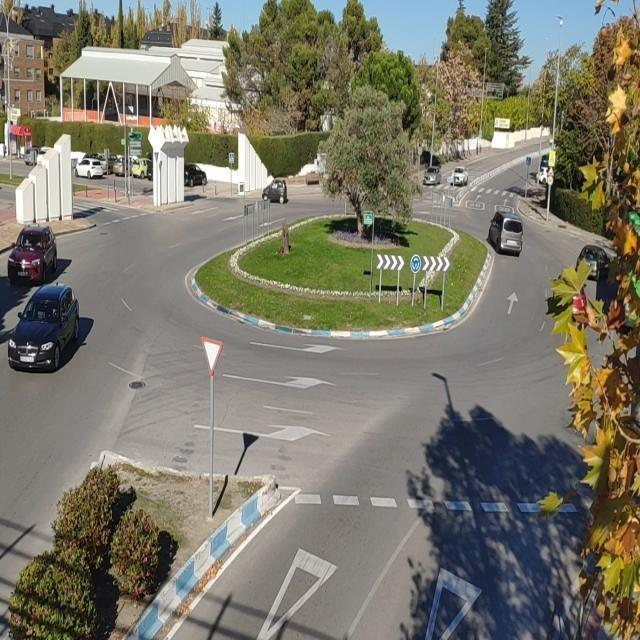Car: (7, 277, 84, 380), (5, 225, 61, 283), (482, 205, 529, 251), (256, 178, 294, 206), (418, 166, 443, 190), (448, 164, 469, 190)
